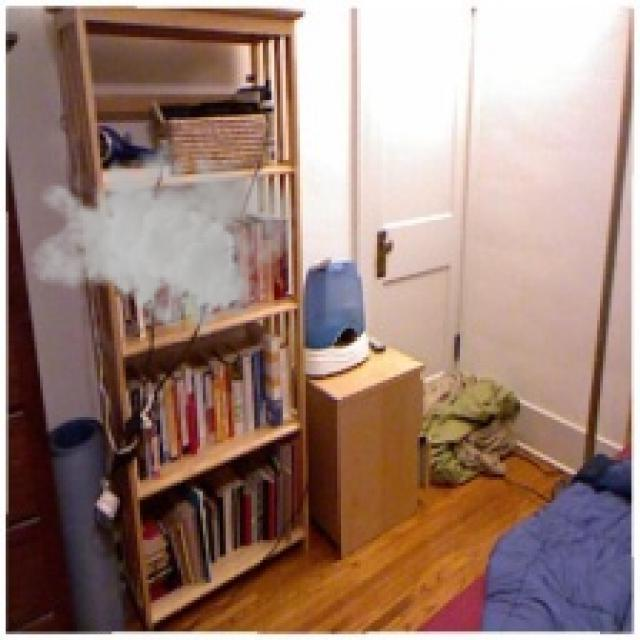Smoke: (29, 126, 298, 337)
